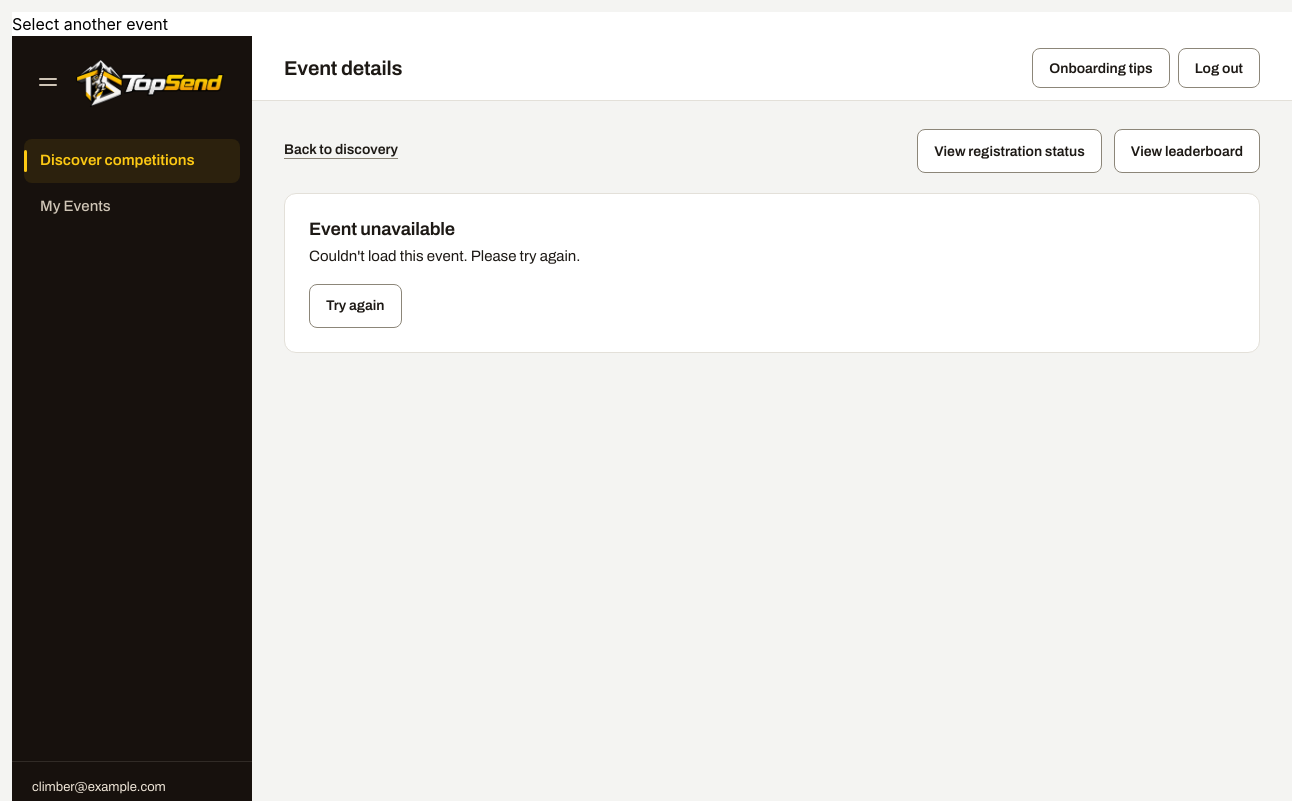
Test: US-028 live event page integrated with #109/#110 › shows readable retry feedback without exposing internal errors
Expected: the text "Couldn't load this event. Please try again." is shown, [309,248,580,264]
Click the button "Try again".
click(355, 306)  # box [309,284,402,328]
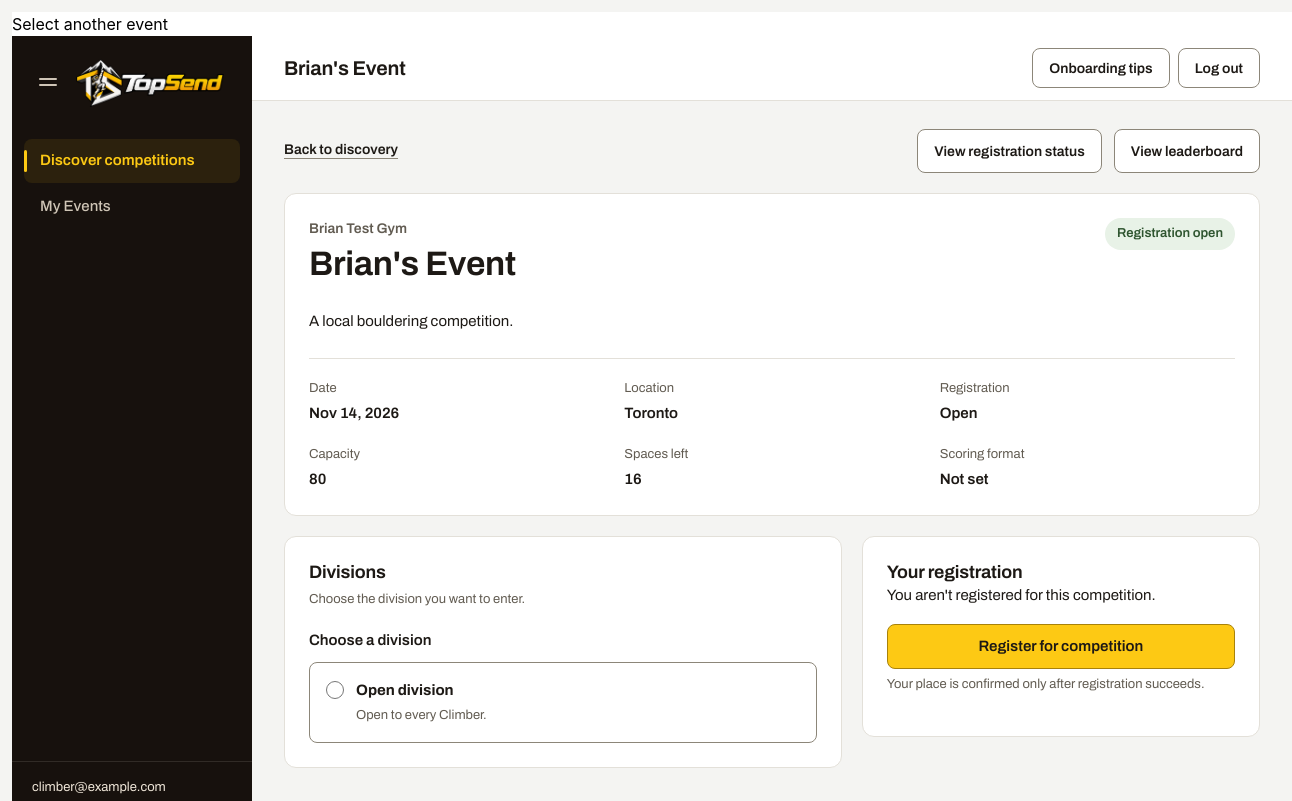
Result: the element named "Competition event details" is shown at [284,193,1260,516]
